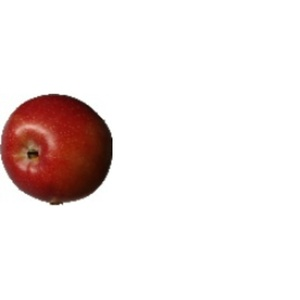maçã braeburn: (1, 90, 116, 207)
